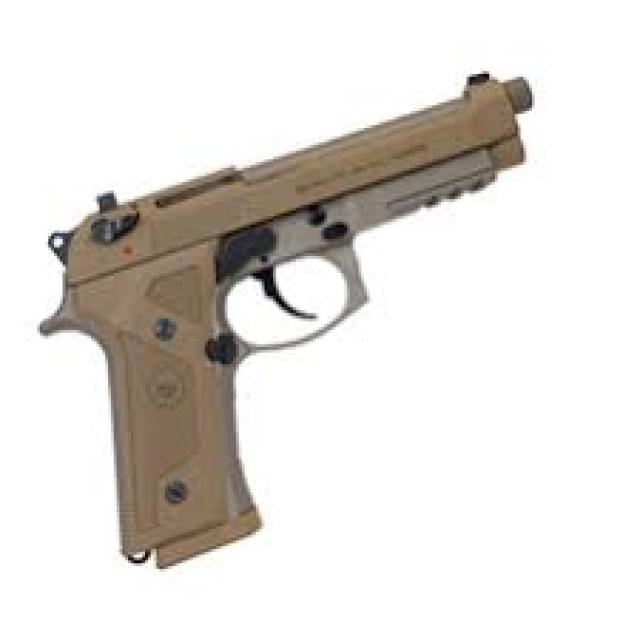pistol: (23, 56, 541, 575)
